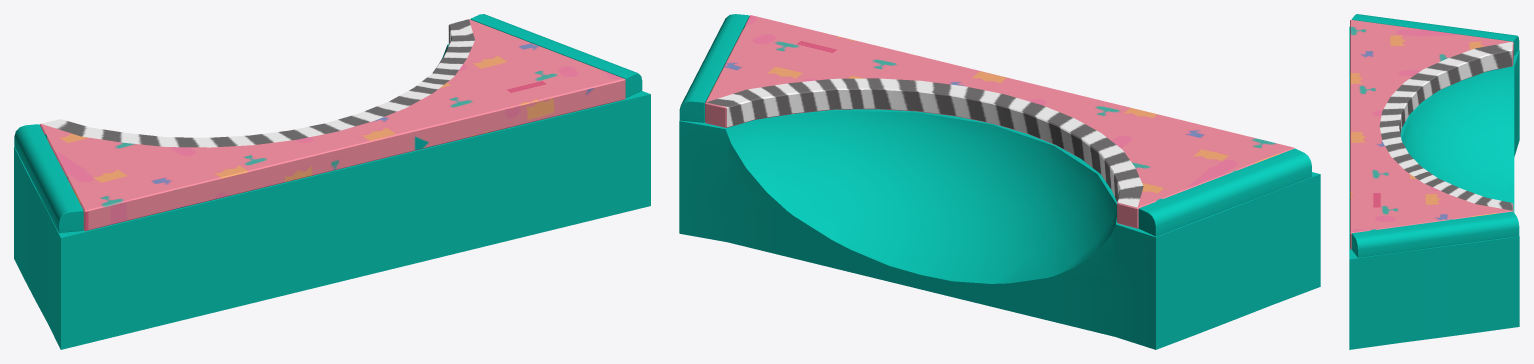
The model's file is PLF0110044.fbx.
3 views of the same model, side by side, from view 1: azimuth 30°, elevation 25°; view 2: azimuth 150°, elevation 25°; view 3: azimuth 270°, elevation 25° (orthographic). The views are drawn at different scales.
Parts seen in each view (by area): view 1: smPLF0110044; view 2: smPLF0110044; view 3: smPLF0110044.
Part boxes in pixels (left/top/right/bottom): smPLF0110044: left=14, top=14, right=650, bottom=349; smPLF0110044: left=679, top=14, right=1320, bottom=349; smPLF0110044: left=1349, top=14, right=1519, bottom=349.
Bounding box in the file's own units: 1128 × 243 × 349.
Materials: 1 (1 with a texture image).
